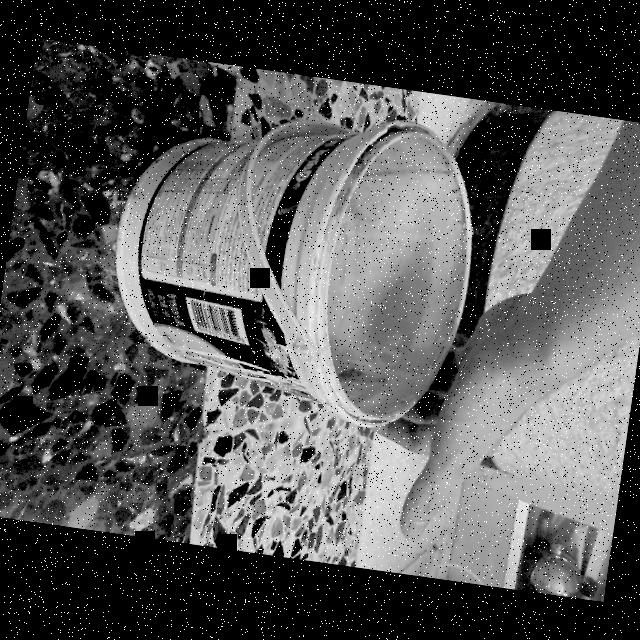paint_bucket: (97, 84, 487, 437)
